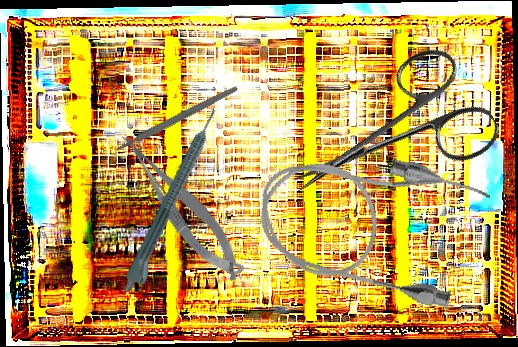Cannula: (246, 130, 494, 314)
Handpiece: (119, 106, 229, 299)
Iris Scissors: (268, 36, 506, 241)
Micro Scissor: (114, 118, 251, 292)
Scalpel Handle: (113, 84, 240, 154)
